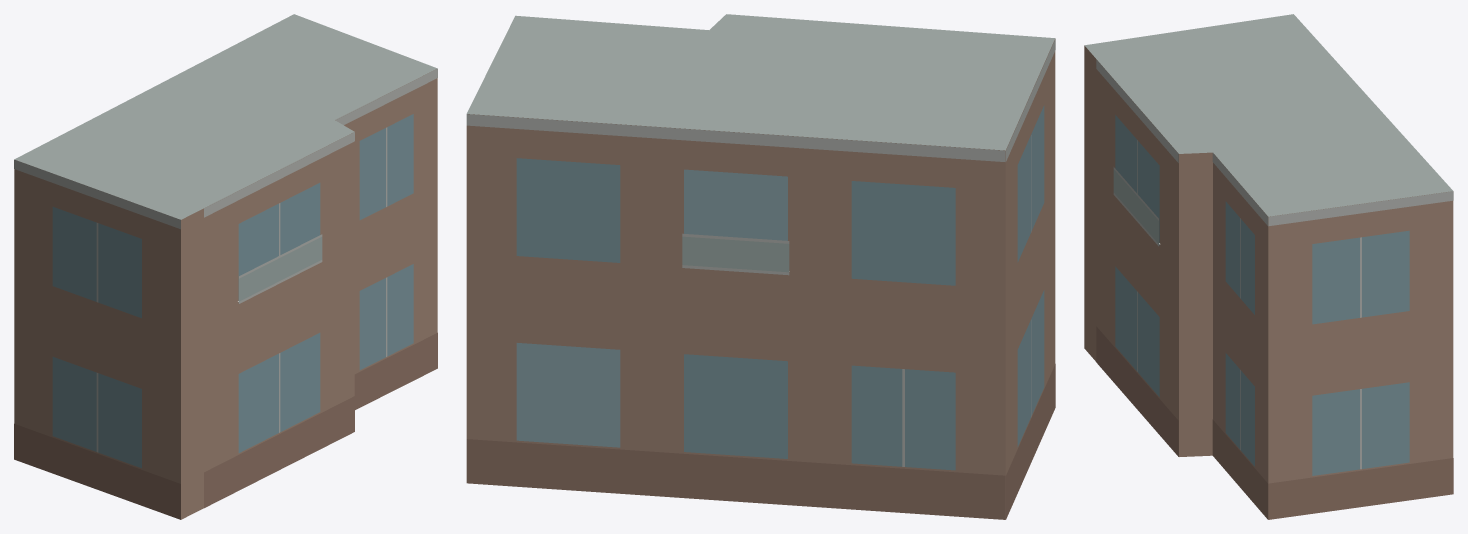
Rendered from survey-upis-32511290.glb.
3 views of the same model, side by side, from view 1: azimuth 30°, elevation 25°; view 2: azimuth 150°, elevation 25°; view 3: azimuth 270°, elevation 25° (orthographic). The views are drawn at different scales.
Visible parts, largest first — view 1: survey-upis-32511290.tmp; view 2: survey-upis-32511290.tmp; view 3: survey-upis-32511290.tmp.
Part boxes in pixels (left/top/right/bottom): survey-upis-32511290.tmp: left=14, top=14, right=437, bottom=519; survey-upis-32511290.tmp: left=466, top=14, right=1055, bottom=519; survey-upis-32511290.tmp: left=1084, top=14, right=1453, bottom=519.
Bounding box in the file's own units: 11.05 × 7.7 × 8.5.
